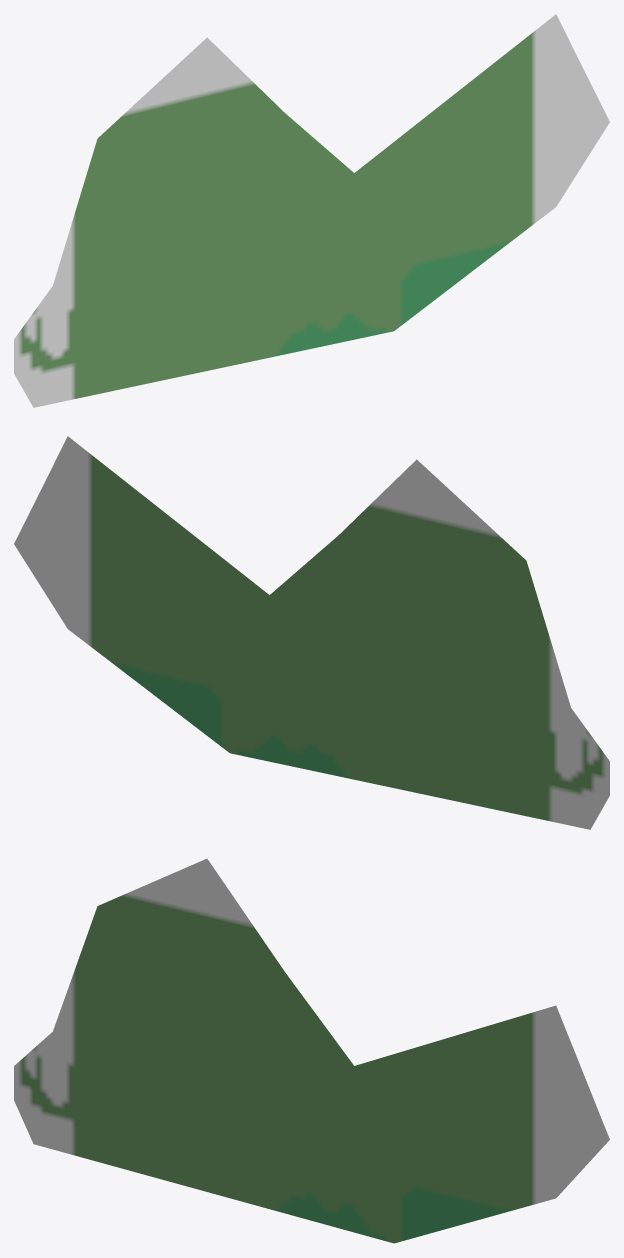
The model's file is SM_Grass_04.fbx.
The picture shows the model from 3 angles, top to bottom: view 1: azimuth 30°, elevation 25°; view 2: azimuth 150°, elevation 25°; view 3: azimuth 330°, elevation 25°; orthographic projection.
Parts seen in each view (by area): view 1: SM_Grass_04; view 2: SM_Grass_04; view 3: SM_Grass_04.
Part boxes in pixels (bbox=[...]): SM_Grass_04: bbox=[14, 14, 609, 407]; SM_Grass_04: bbox=[14, 436, 609, 829]; SM_Grass_04: bbox=[14, 858, 609, 1243].
Size of the model in its own units: 65.96 by 35.9 by 0.
Materials: 1 (1 with a texture image).
